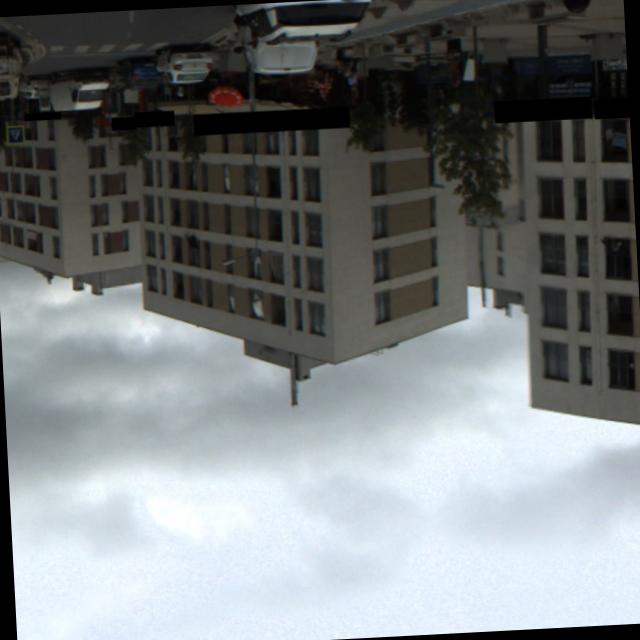SignStore: (192, 108, 349, 129), (493, 97, 591, 118), (593, 98, 630, 117), (134, 110, 173, 127), (24, 111, 61, 120), (110, 116, 134, 129)
